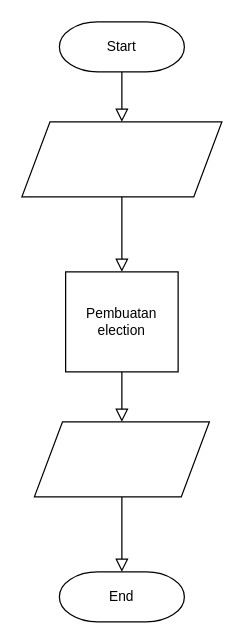
Some shapes in this 244 by 644 pixel diagram are drawn without their labels. The centre of each missing label's shape, as x and y in pixels:
Election berhasil dibuat: the point at 121,459
Input nama, deskripsi, tanggal mulai dan tanggal selesai: the point at 121,159
